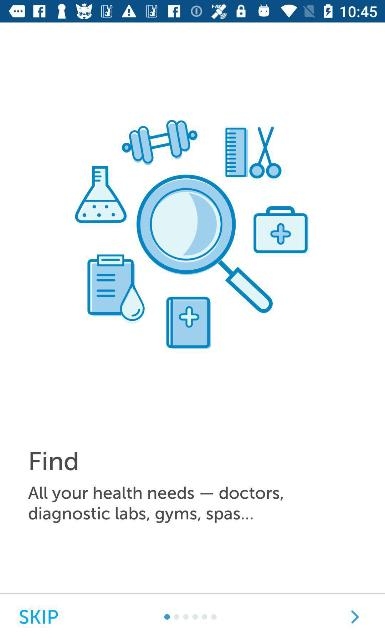Icon: (351, 610, 359, 624)
Image: (74, 119, 308, 349)
PageIndicator: (164, 612, 218, 620)
Text: (28, 485, 284, 523), (30, 451, 78, 472), (19, 608, 59, 624)
UpperTaskBar: (0, 0, 384, 22)
